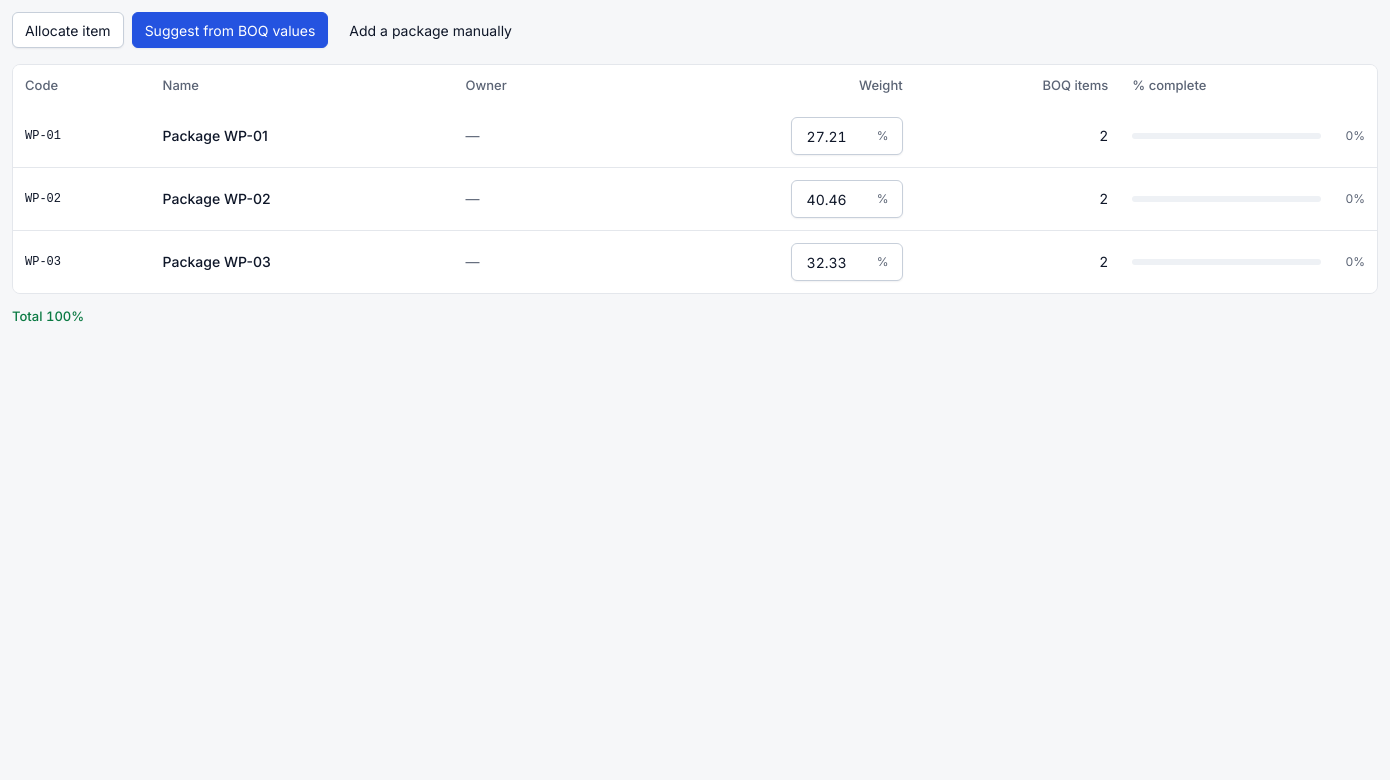
Scenario: WorkPackageEditor weights › saves only the row the user edited — an untouched 0.2721 is never re-sent
Replace the text in the number field named "Weight for WP-02" with "30" at coordinates (847, 199), box [791, 180, 903, 218]
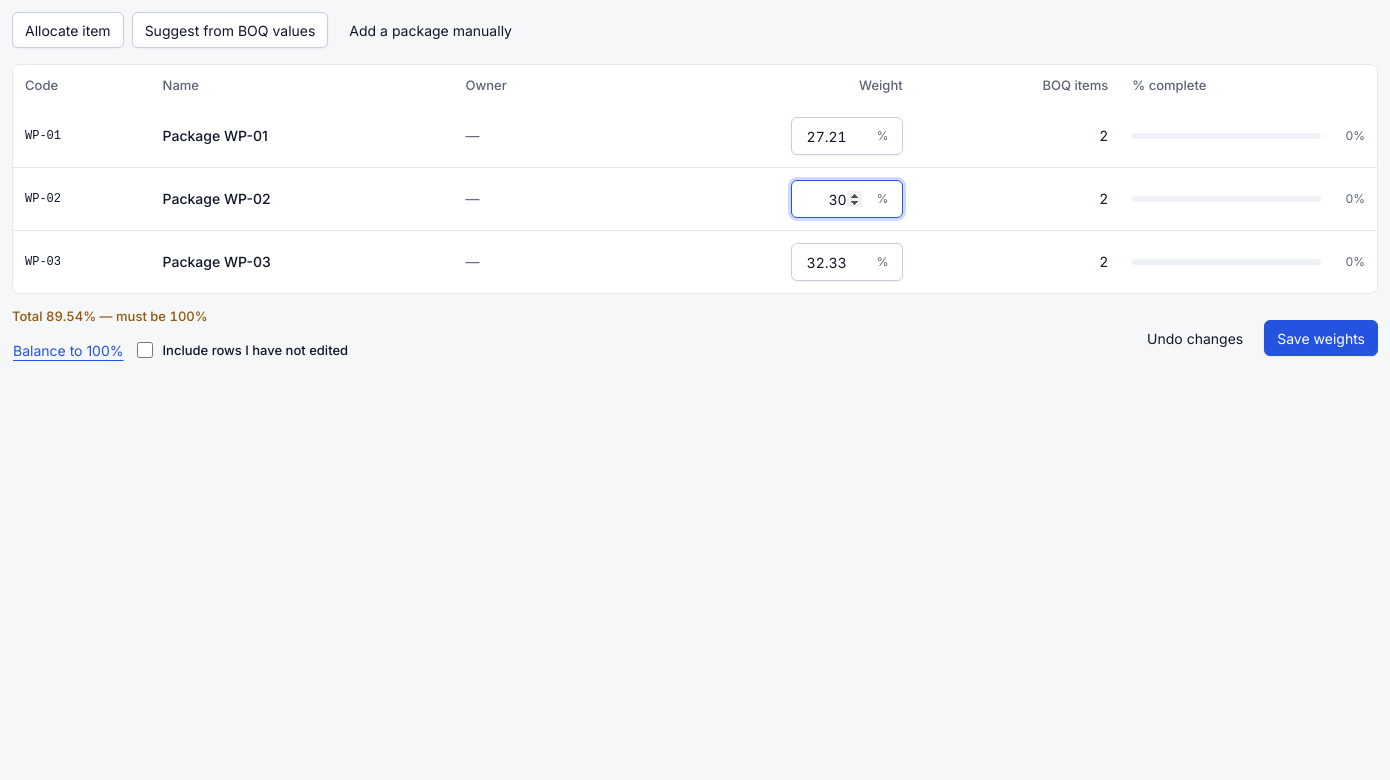
// The total is off (89.54%): saving is still allowed, the server only reports completeness.
Click the button "Save weights" at coordinates (1321, 338), box [1264, 320, 1378, 356]
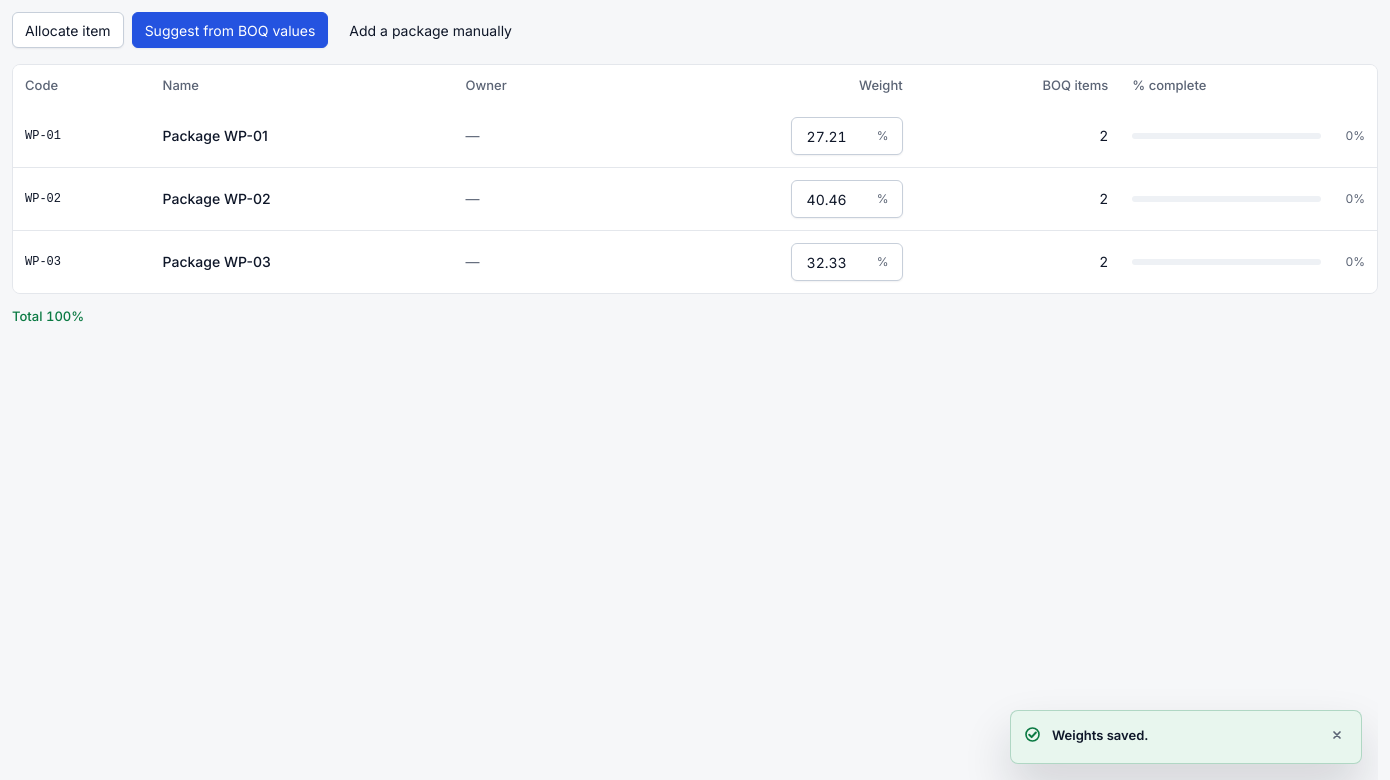
Expected: the text "Weights saved." is shown, [1052, 727, 1148, 743]
